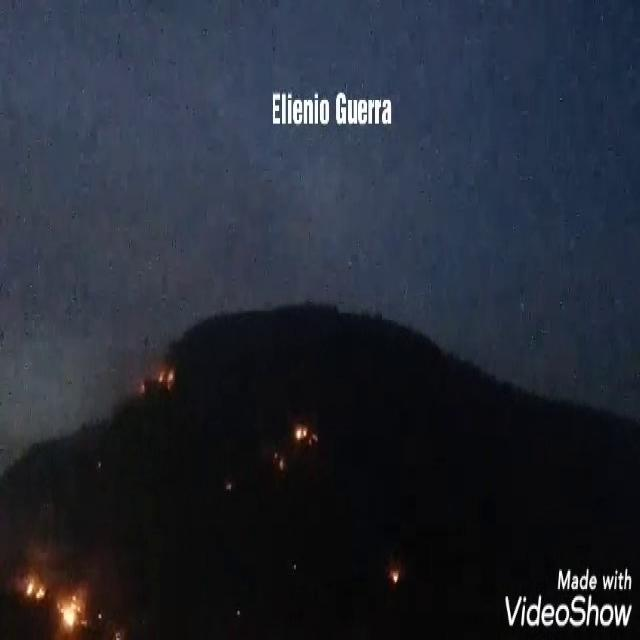Fire: (56, 594, 80, 630), (25, 576, 48, 600), (155, 368, 175, 388), (295, 424, 311, 444)
